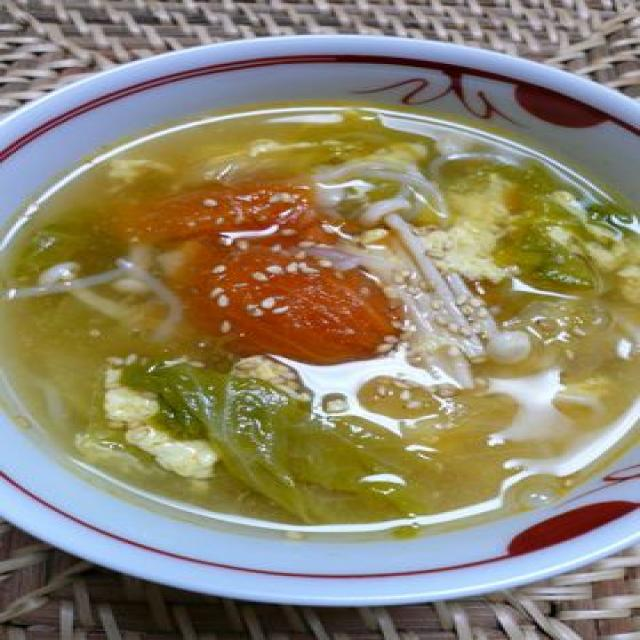汤锅炖物: (0, 24, 640, 620)
